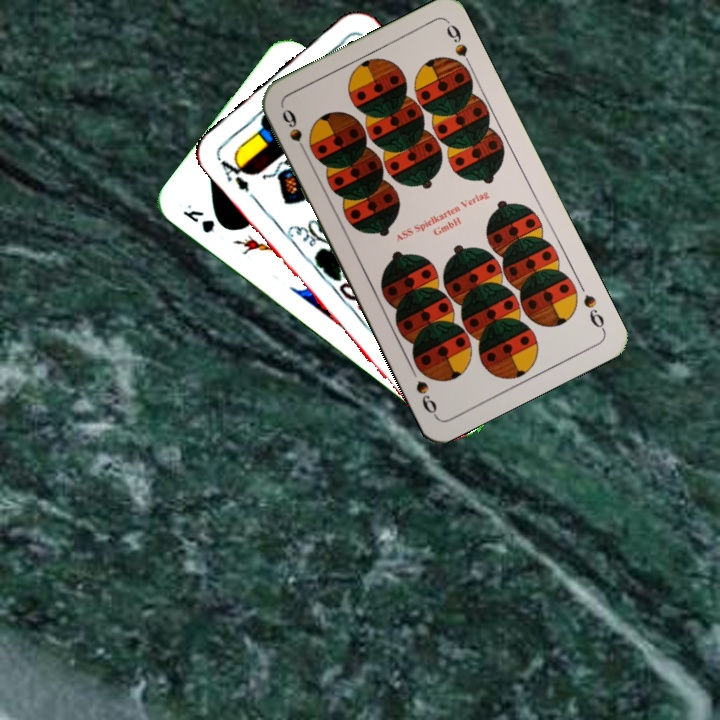EA: (213, 151, 252, 195)
GK: (178, 200, 218, 236)
S9: (277, 105, 310, 158), (579, 290, 608, 334)
